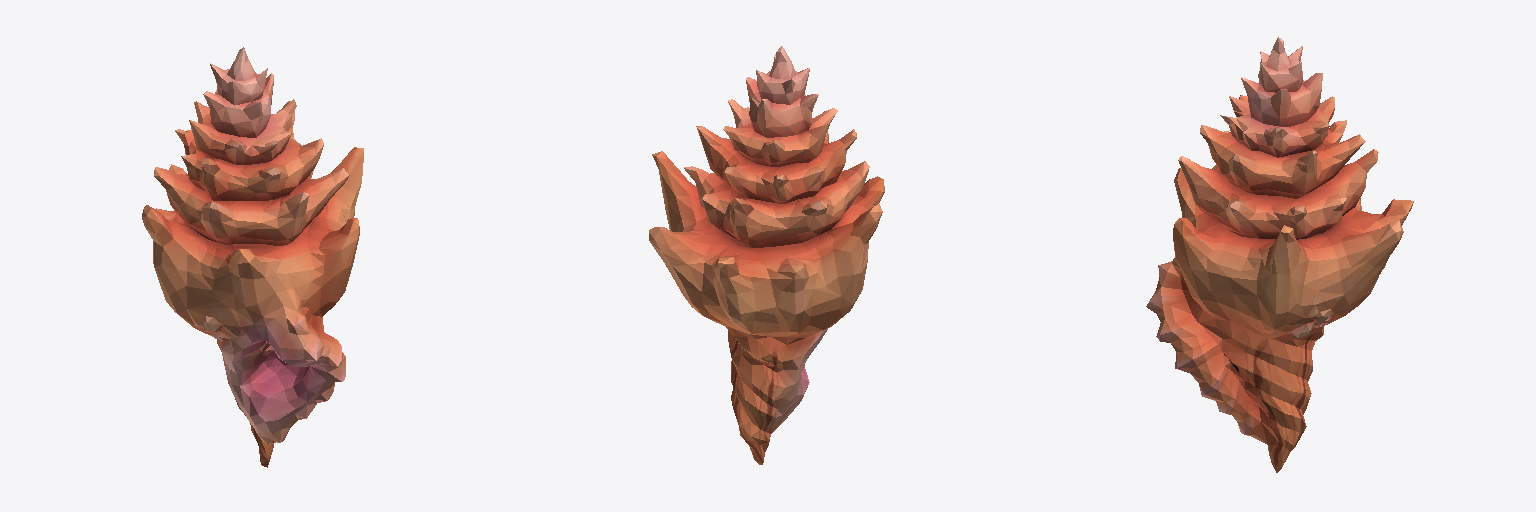
3 views of the same model, side by side, from view 1: azimuth 30°, elevation 25°; view 2: azimuth 150°, elevation 25°; view 3: azimuth 270°, elevation 25° (orthographic).
Visible parts, largest first — view 1: TurtleDefaultBakeLayer LOD0; view 2: TurtleDefaultBakeLayer LOD0; view 3: TurtleDefaultBakeLayer LOD0.
Part boxes in pixels (bbox=[...]): TurtleDefaultBakeLayer LOD0: bbox=[142, 47, 363, 467]; TurtleDefaultBakeLayer LOD0: bbox=[649, 46, 884, 464]; TurtleDefaultBakeLayer LOD0: bbox=[1146, 37, 1413, 472].
Bounding box in the file's own units: 2.62 × 4.76 × 2.72.
Materials: 1 (1 with a texture image).